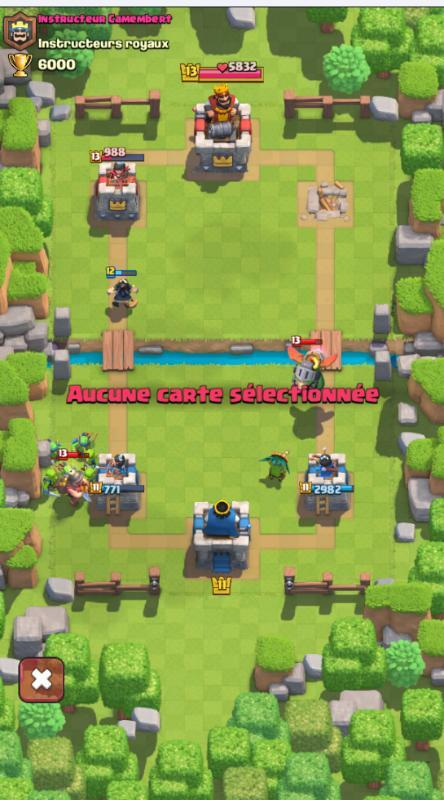enemy_inferno_dragon: (277, 337, 338, 390)
enemy_miner: (62, 468, 92, 511)
player_dart_goblin: (254, 441, 296, 487)
player_electro_wizard: (104, 264, 141, 316)
player_goblins: (40, 465, 61, 498), (80, 448, 98, 470)
player_spear_goblins: (67, 428, 100, 463), (44, 438, 63, 461)
